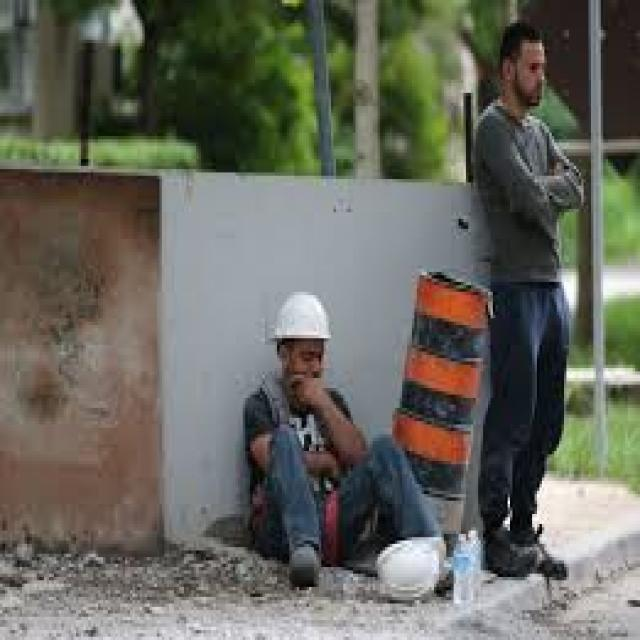Safety-Helmet: (265, 282, 338, 355)
